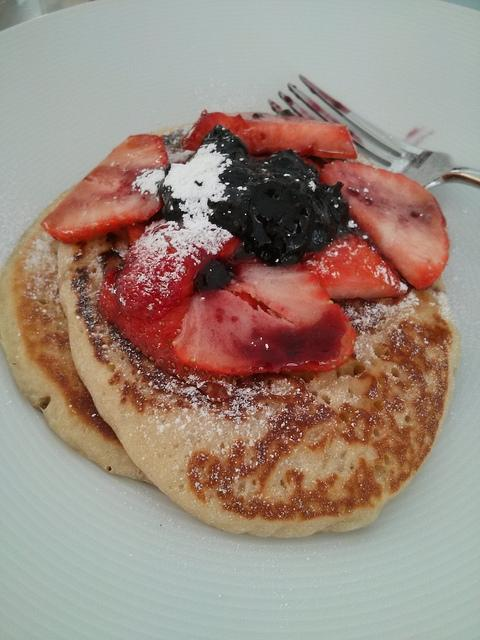strawberry: (174, 260, 358, 376), (320, 160, 450, 290), (40, 134, 168, 246), (112, 220, 243, 321), (182, 108, 358, 160), (300, 230, 410, 306)
